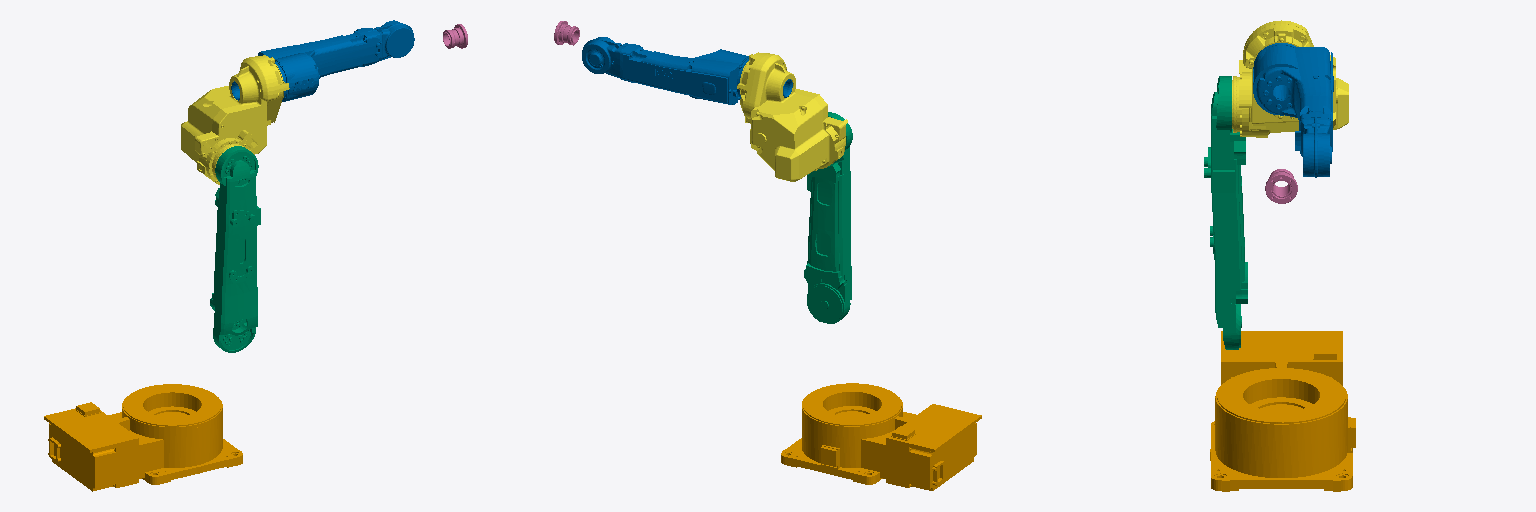
The robot description file, URDF, robot "IRB1520ID_4_150":
<?xml version="1.0" ?>
<robot name="IRB1520ID_4_150">

<link name="base_link">
  <inertial>
    <origin xyz="-0.11951641673861603 0.0009257248980786925 0.08689967160381512" rpy="0 0 0"/>
    <mass value="173.23686098491044"/>
    <inertia ixx="1.85753" iyy="4.725389" izz="5.772748" ixy="0.001362" iyz="-0.001328" ixz="0.047514"/>
  </inertial>
  <visual>
    <origin xyz="0 0 0" rpy="0 0 0"/>
    <geometry>
      <mesh filename="meshes/base_link.stl" scale="0.001 0.001 0.001"/>
    </geometry>
  </visual>
  <collision>
    <origin xyz="0 0 0" rpy="0 0 0"/>
    <geometry>
      <mesh filename="meshes/base_link.stl" scale="0.001 0.001 0.001"/>
    </geometry>
  </collision>
</link>

<link name="link_1">
  <inertial>
    <origin xyz="0.05707281488826015 0.0006025778841929872 0.13293060234197612" rpy="0 0 0"/>
    <mass value="140.431105262512"/>
    <inertia ixx="2.48605" iyy="3.333637" izz="2.728491" ixy="-0.228315" iyz="-0.276475" ixz="-0.925441"/>
  </inertial>
  <visual>
    <origin xyz="0.0 0.0 -0.179" rpy="0 0 0"/>
    <geometry>
      <mesh filename="meshes/link_1.stl" scale="0.001 0.001 0.001"/>
    </geometry>
  </visual>
  <collision>
    <origin xyz="0.0 0.0 -0.179" rpy="0 0 0"/>
    <geometry>
      <mesh filename="meshes/link_1.stl" scale="0.001 0.001 0.001"/>
    </geometry>
  </collision>
</link>

<link name="link_2">
  <inertial>
    <origin xyz="0.0007044579416419228 -0.03149605796477184 0.29006399785734144" rpy="0 0 0"/>
    <mass value="41.09408994963129"/>
    <inertia ixx="1.373064" iyy="1.407108" izz="0.070327" ixy="0.000339" iyz="0.044252" ixz="-0.003017"/>
  </inertial>
  <visual>
    <origin xyz="-0.16 0.101 -0.453" rpy="0 0 0"/>
    <geometry>
      <mesh filename="meshes/link_2.stl" scale="0.001 0.001 0.001"/>
    </geometry>
  </visual>
  <collision>
    <origin xyz="-0.16 0.101 -0.453" rpy="0 0 0"/>
    <geometry>
      <mesh filename="meshes/link_2.stl" scale="0.001 0.001 0.001"/>
    </geometry>
  </collision>
</link>

<link name="link_3">
  <inertial>
    <origin xyz="0.06548004242621241 0.1344685694664799 0.07826527979937392" rpy="0 0 0"/>
    <mass value="87.68237861319876"/>
    <inertia ixx="0.971776" iyy="1.045833" izz="0.839198" ixy="-0.018707" iyz="-0.003599" ixz="-0.330412"/>
  </inertial>
  <visual>
    <origin xyz="-0.16 0.121 -1.043" rpy="0 0 0"/>
    <geometry>
      <mesh filename="meshes/link_3.stl" scale="0.001 0.001 0.001"/>
    </geometry>
  </visual>
  <collision>
    <origin xyz="-0.16 0.121 -1.043" rpy="0 0 0"/>
    <geometry>
      <mesh filename="meshes/link_3.stl" scale="0.001 0.001 0.001"/>
    </geometry>
  </collision>
</link>

<link name="link_4">
  <inertial>
    <origin xyz="0.2563461184029021 0.05731755029377212 6.253808667189276e-05" rpy="0 0 0"/>
    <mass value="21.10958519516661"/>
    <inertia ixx="0.082185" iyy="0.860479" izz="0.891441" ixy="-0.123344" iyz="-0.00014" ixz="0.001526"/>
  </inertial>
  <visual>
    <origin xyz="-0.377 -0.000676 -1.243" rpy="0 0 0"/>
    <geometry>
      <mesh filename="meshes/link_4.stl" scale="0.001 0.001 0.001"/>
    </geometry>
  </visual>
  <collision>
    <origin xyz="-0.377 -0.000676 -1.243" rpy="0 0 0"/>
    <geometry>
      <mesh filename="meshes/link_4.stl" scale="0.001 0.001 0.001"/>
    </geometry>
  </collision>
</link>

<link name="link_5">
  <inertial>
    <origin xyz="0.08003843824392387 -0.024836643137220026 8.743162421964712e-05" rpy="0 0 0"/>
    <mass value="4.145062543835652"/>
    <inertia ixx="0.004992" iyy="0.023932" izz="0.024057" ixy="0.004073" iyz="-8e-06" ixz="3.5e-05"/>
  </inertial>
  <visual>
    <origin xyz="-0.883 -0.0525 -1.243" rpy="0 0 0"/>
    <geometry>
      <mesh filename="meshes/link_5.stl" scale="0.001 0.001 0.001"/>
    </geometry>
  </visual>
  <collision>
    <origin xyz="-0.883 -0.0525 -1.243" rpy="0 0 0"/>
    <geometry>
      <mesh filename="meshes/link_5.stl" scale="0.001 0.001 0.001"/>
    </geometry>
  </collision>
</link>

<link name="link_6">
  <inertial>
    <origin xyz="-0.013187035609442788 -1.7891235431793164e-09 -0.00010144891816454837" rpy="0 0 0"/>
    <mass value="0.7222246780605773"/>
    <inertia ixx="0.000572" iyy="0.000513" izz="0.000515" ixy="0.0" iyz="0.0" ixz="1e-06"/>
  </inertial>
  <visual>
    <origin xyz="-1.072629 -0.0 -1.243" rpy="0 0 0"/>
    <geometry>
      <mesh filename="meshes/link_6.stl" scale="0.001 0.001 0.001"/>
    </geometry>
  </visual>
  <collision>
    <origin xyz="-1.072629 -0.0 -1.243" rpy="0 0 0"/>
    <geometry>
      <mesh filename="meshes/link_6.stl" scale="0.001 0.001 0.001"/>
    </geometry>
  </collision>
</link>

<joint name="joint_1" type="revolute">
  <origin xyz="0.0 0.0 0.179" rpy="0 0 0"/>
  <parent link="base_link"/>
  <child link="link_1"/>
  <axis xyz="-0.0 -0.0 1.0"/>
  <limit lower="-2.967" upper="2.967" velocity="2.2689" effort="250"/>
</joint>

<joint name="joint_2" type="revolute">
  <origin xyz="0.16 -0.101 0.274" rpy="0 0 0"/>
  <parent link="link_1"/>
  <child link="link_2"/>
  <axis xyz="0.0 -1.0 -0.0"/>
  <limit lower="-1.571" upper="2.618" velocity="2.4435" effort="200"/>
</joint>

<joint name="joint_3" type="revolute">
  <origin xyz="0.0 -0.02 0.59" rpy="0 0 0"/>
  <parent link="link_2"/>
  <child link="link_3"/>
  <axis xyz="0.0 -1.0 -0.0"/>
  <limit lower="-1.745" upper="1.396" velocity="2.4435" effort="180"/>
</joint>

<joint name="joint_4" type="revolute">
  <origin xyz="0.217 0.121676 0.2" rpy="0 0 0"/>
  <parent link="link_3"/>
  <child link="link_4"/>
  <axis xyz="-1.0 -0.0 0.0"/>
  <limit lower="-2.705" upper="2.705" velocity="5.5851" effort="100"/>
</joint>

<joint name="joint_5" type="revolute">
  <origin xyz="0.506 0.051824 0.0" rpy="0 0 0"/>
  <parent link="link_4"/>
  <child link="link_5"/>
  <axis xyz="0.0 -1.0 -0.0"/>
  <limit lower="-2.356" upper="2.356" velocity="6.6323" effort="80"/>
</joint>

<joint name="joint_6" type="revolute">
  <origin xyz="0.189629 -0.0525 0.0" rpy="0 0 0"/>
  <parent link="link_5"/>
  <child link="link_6"/>
  <axis xyz="1.0 0.0 0.0"/>
  <limit lower="-3.491" upper="3.491" velocity="8.0285" effort="50"/>
</joint>

<link name="flange">
</link>

<link name="tool0">
</link>

<joint name="joint_6-flange" type="fixed">
  <origin xyz="0.0 0.0 0.0" rpy="0 1.57 0"/>
  <parent link="link_6"/>
  <child link="flange"/>
</joint>

<joint name="flange-tool0" type="fixed">
  <origin xyz="0.0 0.0 0.0" rpy="0 0 0"/>
  <parent link="flange"/>
  <child link="tool0"/>
</joint>

</robot>

--- What the picture shows (computed from the rendered views, not written in the file) ---
The picture shows the robot from 3 angles, left to right: view 1: azimuth 30°, elevation 25°; view 2: azimuth 150°, elevation 25°; view 3: azimuth 270°, elevation 25°; orthographic projection.
Robot: IRB1520ID_4_150 — 9 links, 8 joints (6 revolute, 2 fixed); root link base_link; default pose: all joints at 0.
Links seen in each view (by area): view 1: base_link, link_2, link_3, link_4; view 2: base_link, link_3, link_2, link_4; view 3: base_link, link_2, link_4, link_3, link_6.
Link boxes in pixels (x1,y1,x2,y2): base_link: (44, 384, 242, 491); link_2: (210, 146, 260, 352); link_3: (181, 55, 289, 184); link_4: (231, 20, 414, 101); base_link: (781, 383, 981, 490); link_3: (737, 52, 847, 181); link_2: (804, 112, 852, 323); link_4: (582, 37, 792, 104); base_link: (1210, 331, 1355, 491); link_2: (1204, 76, 1247, 349); link_4: (1253, 43, 1333, 177); link_3: (1232, 20, 1348, 137); link_6: (1265, 169, 1297, 203).
Size in the robot's own frame: 1.48 by 0.374 by 1.34 metres.
5 mesh visuals loaded from 7 distinct referenced files (5 binary STL); not drawn: 2 (reference not matched to a file when rendering).
